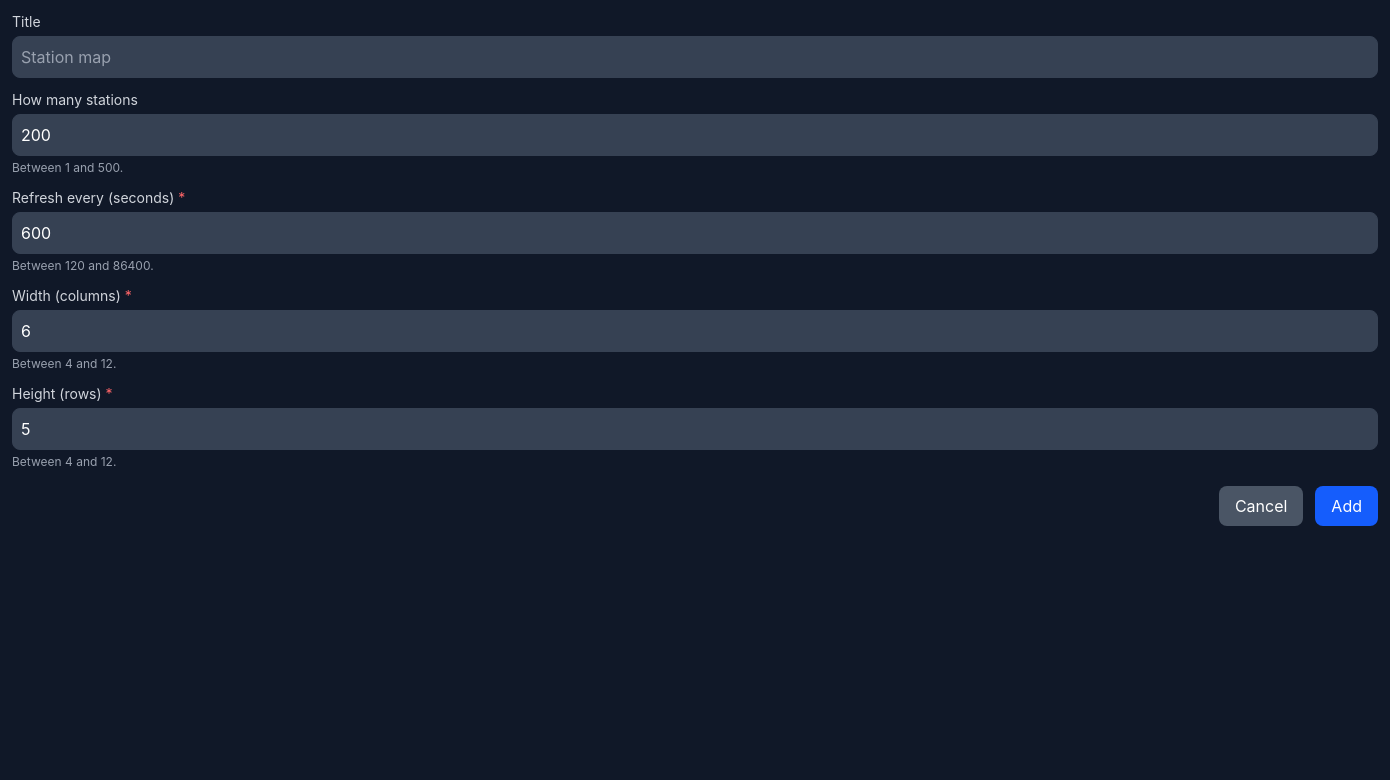
Scenario: refuses a size below the minimum of the widget or wider than the grid
Replace the text in the number field labelled "Width (columns)" with "3" at (695, 331), box [12,310,1378,352]
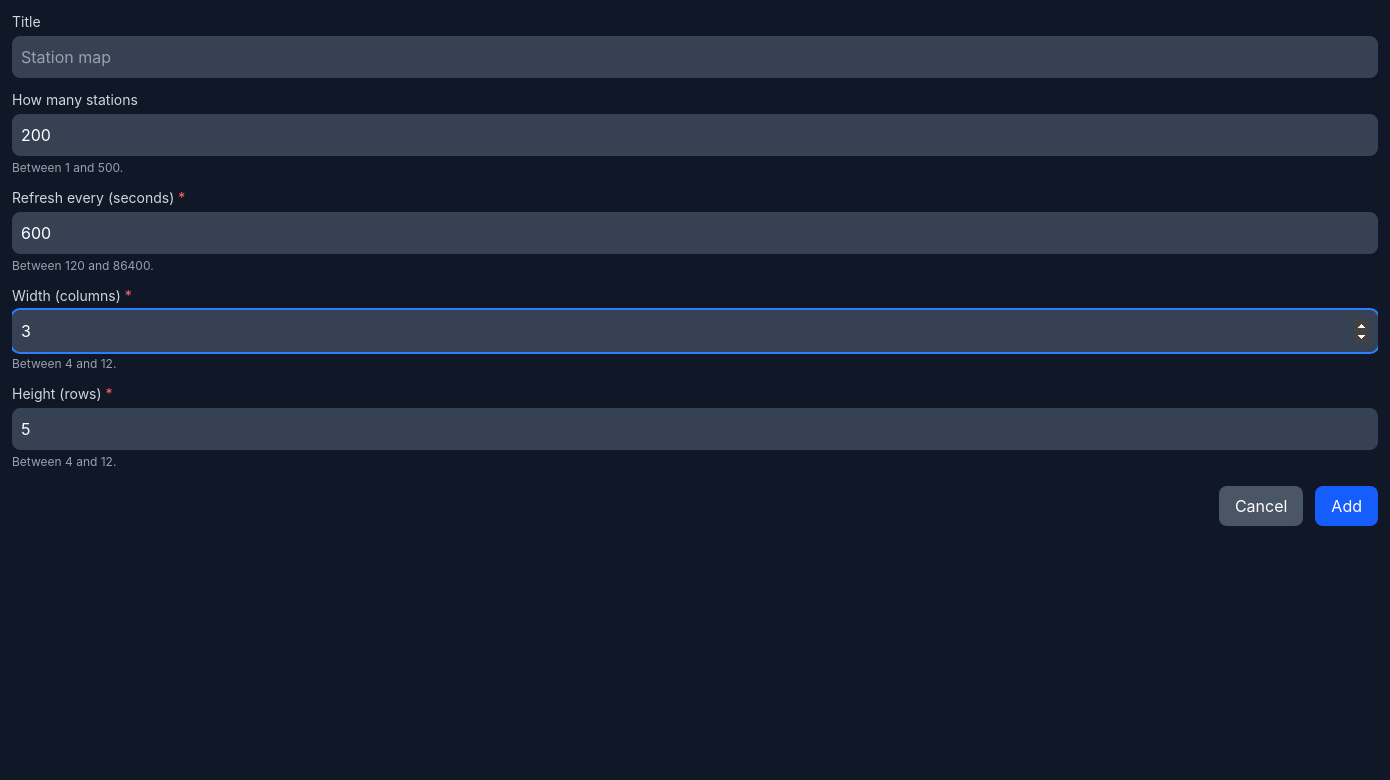
Replace the text in the number field labelled "Height (rows)" with "2" at (695, 429), box [12,408,1378,450]
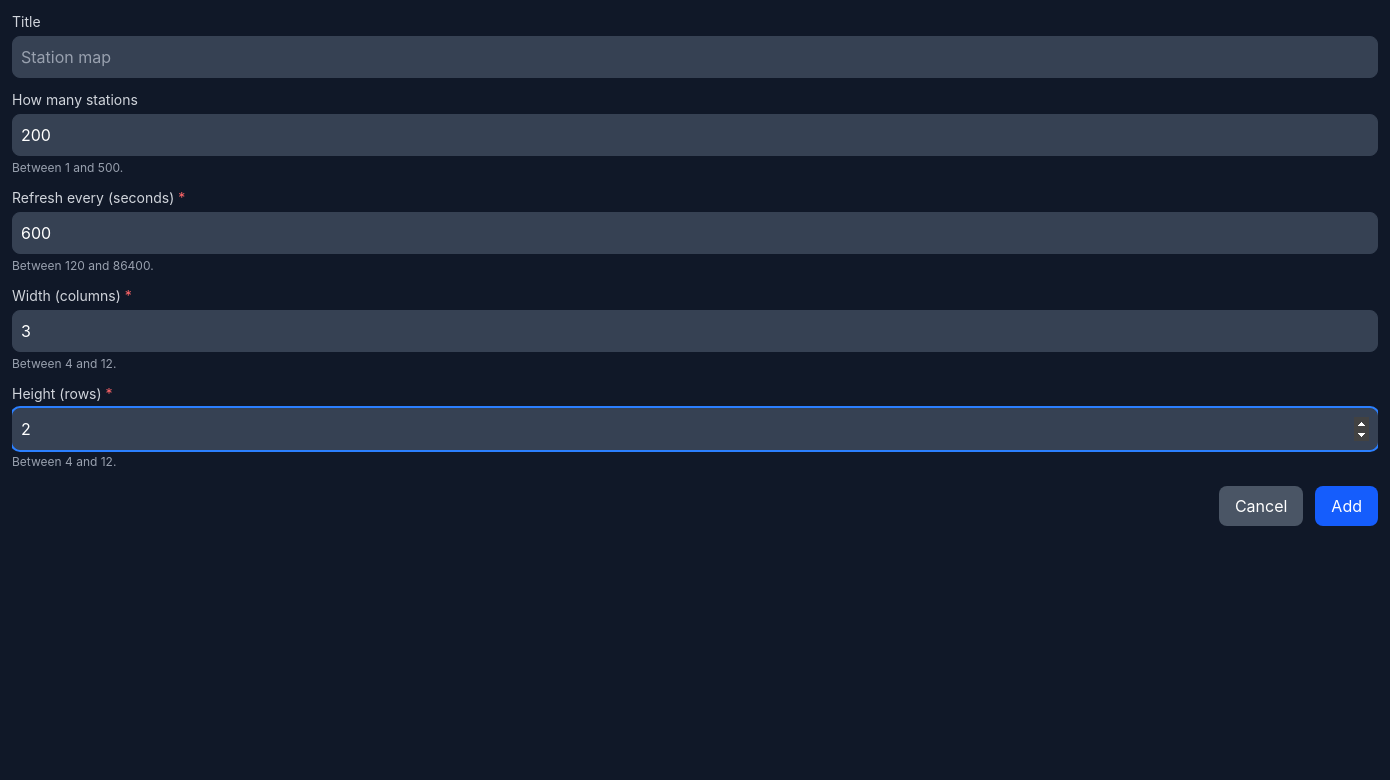
Click the button "Add".
click(1347, 506)  # box [1315,486,1378,526]
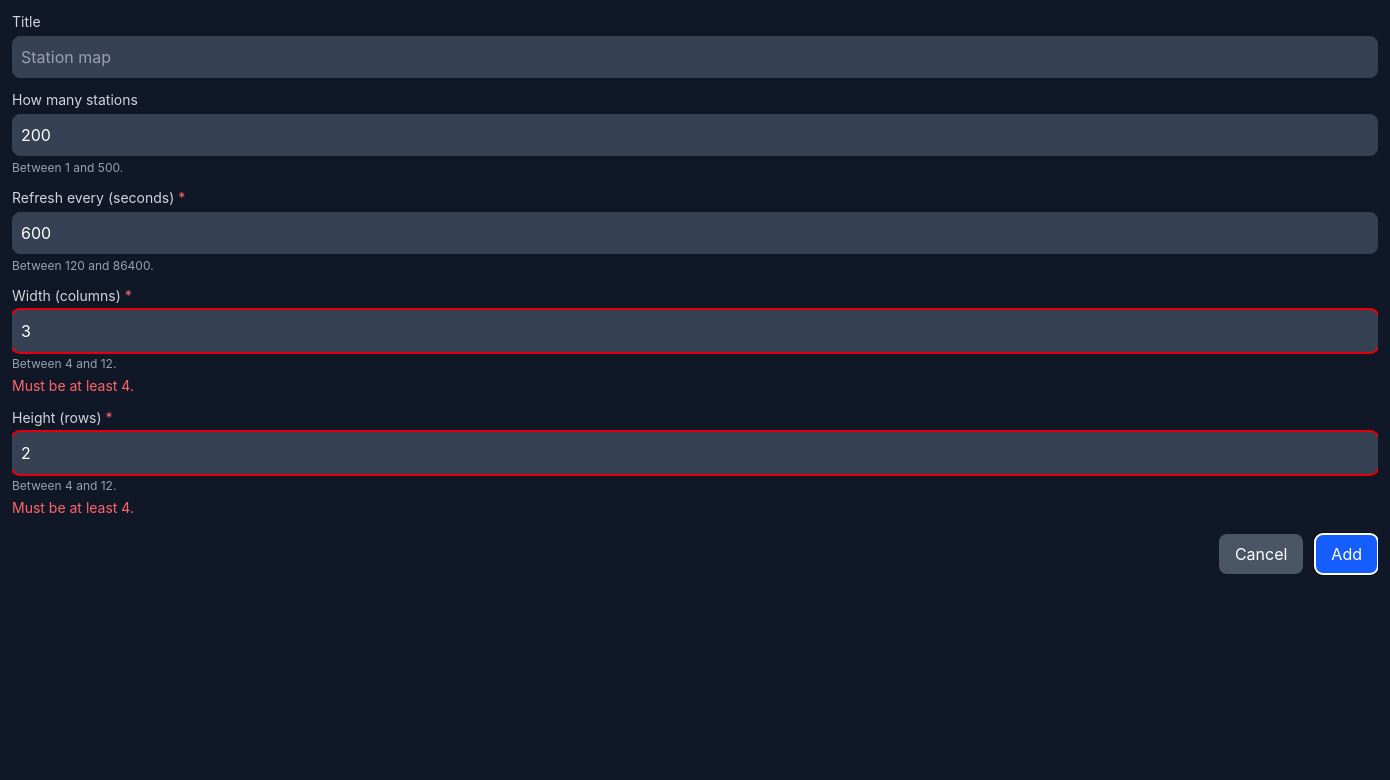
Check: the text "Must be at least 4." is shown 2 times, box [12,377,134,394]; [12,499,134,516]
Replace the text in the number field labelled "Width (columns)" with "13" at (695, 331), box [12,310,1378,352]
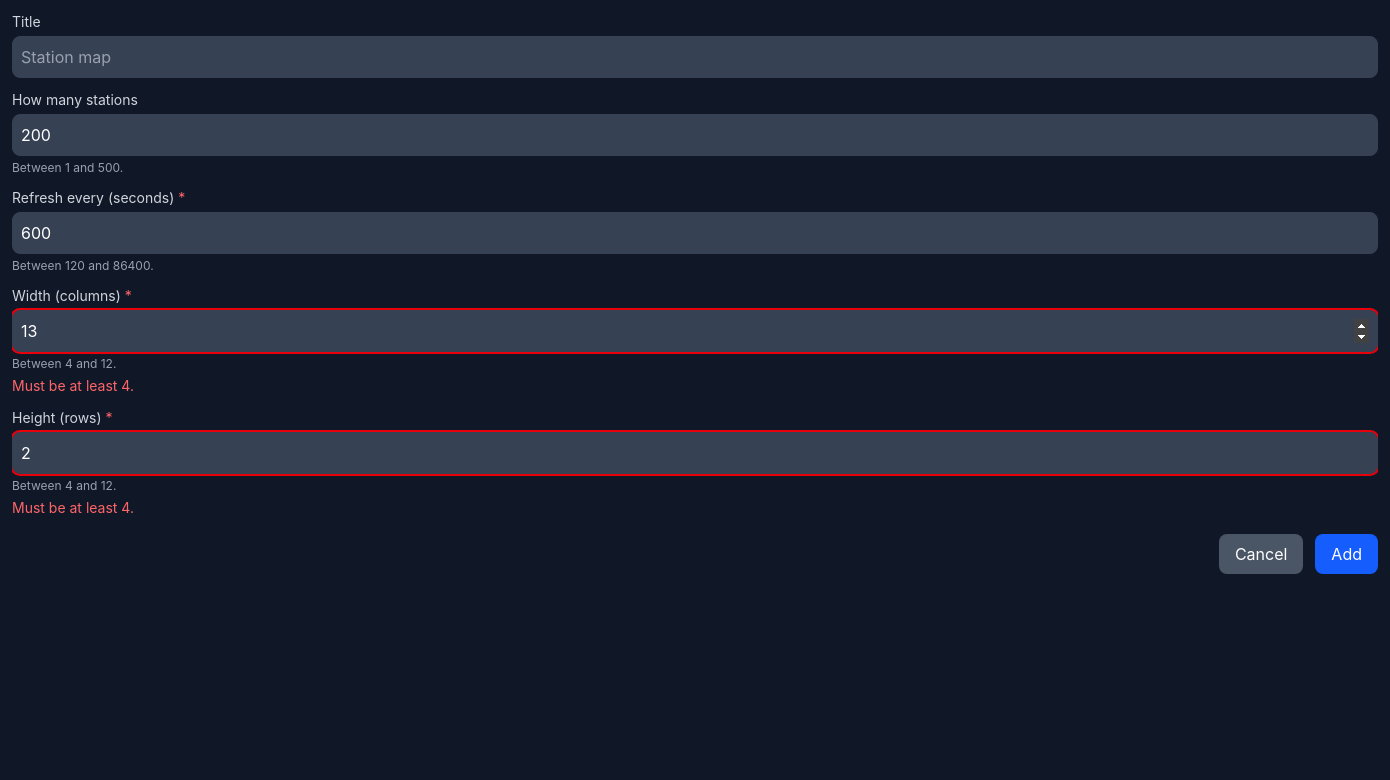
Replace the text in the number field labelled "Height (rows)" with "5" at (695, 453), box [12,432,1378,474]
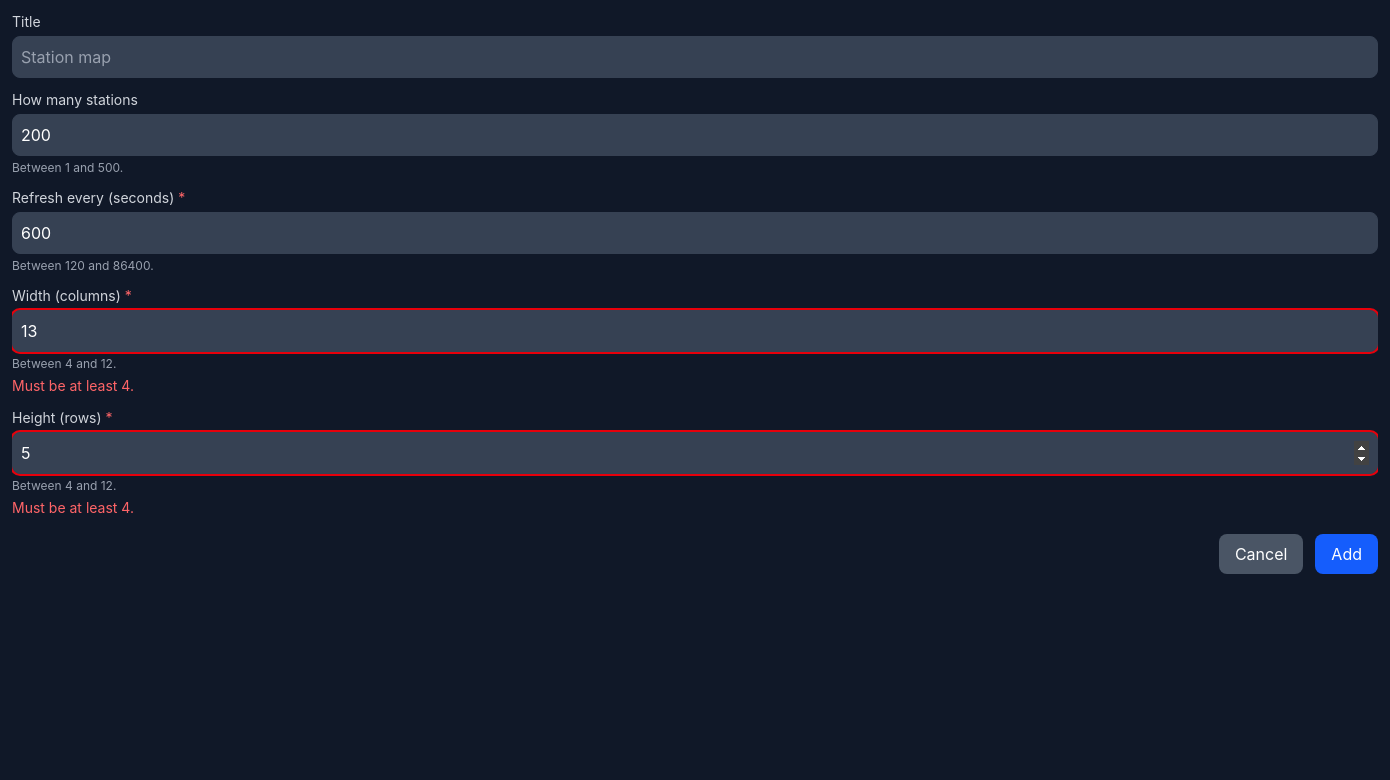
Click the button "Add".
click(1347, 554)  # box [1315,534,1378,574]
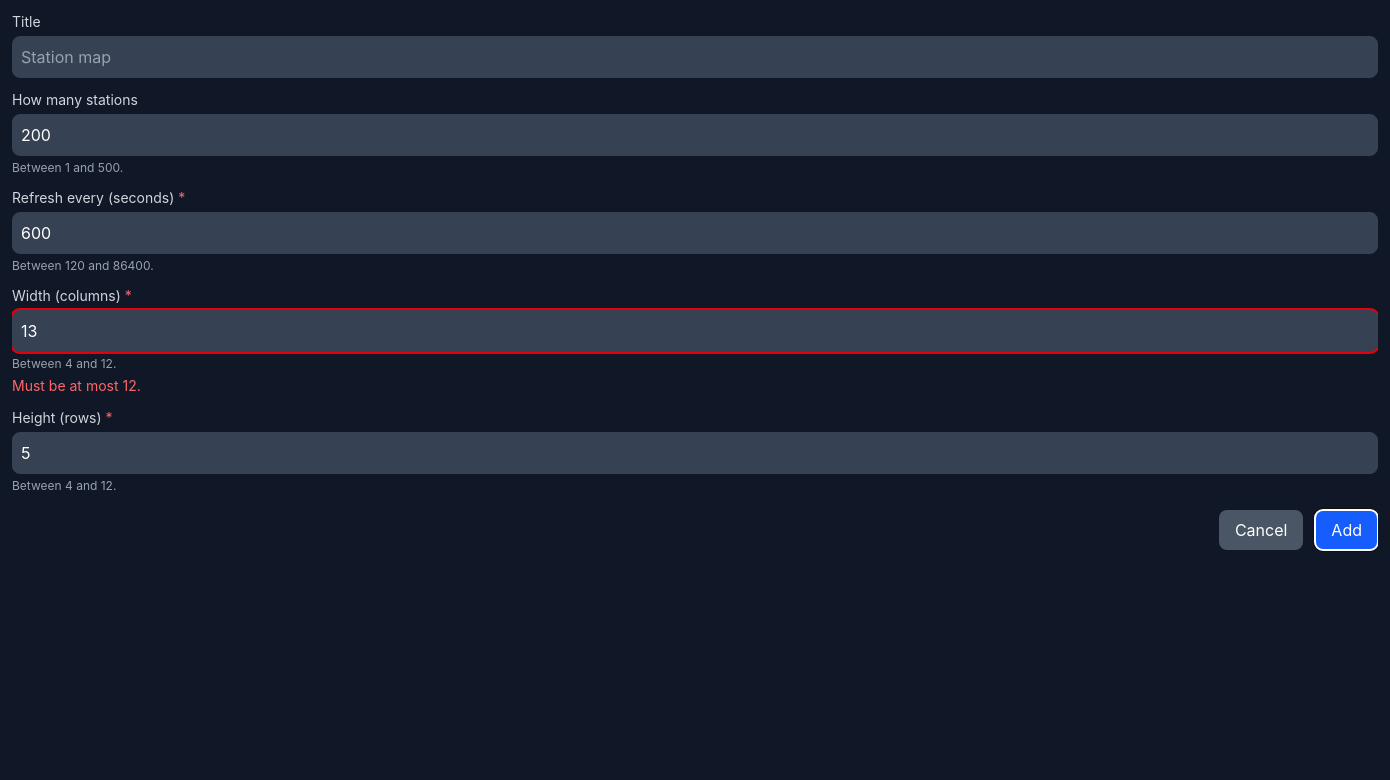
Check: the text "Must be at most 12." is shown, box [12,377,141,394]
